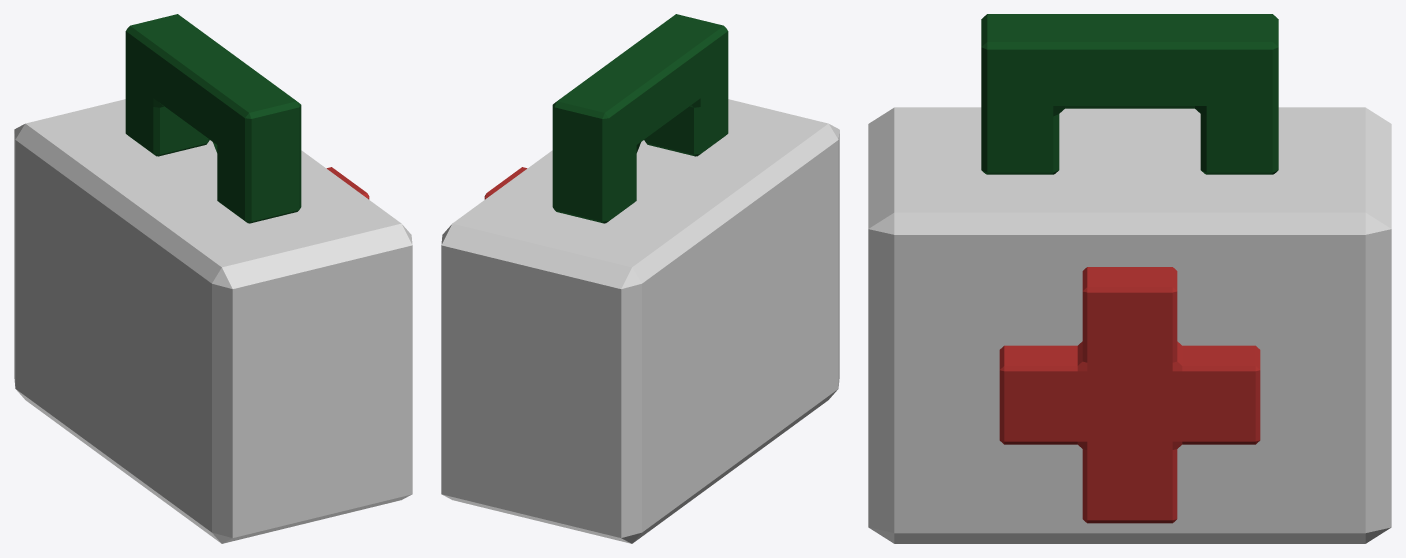
The model's file is HealingObject.fbx.
The picture shows the model from 3 angles, left to right: view 1: azimuth 30°, elevation 25°; view 2: azimuth 150°, elevation 25°; view 3: azimuth 270°, elevation 25°; orthographic projection. The views are drawn at different scales.
Parts seen in each view (by area): view 1: Cube, Cube.002; view 2: Cube, Cube.002; view 3: Cube, Cube.001, Cube.002.
Part boxes in pixels (<box>): Cube: <box>14,99,412,543</box>; Cube.002: <box>125,14,301,223</box>; Cube: <box>441,99,839,543</box>; Cube.002: <box>552,14,728,223</box>; Cube: <box>868,107,1391,543</box>; Cube.001: <box>999,267,1260,523</box>; Cube.002: <box>981,14,1278,174</box>.
Bounding box in the file's own units: 238 × 370 × 379.
